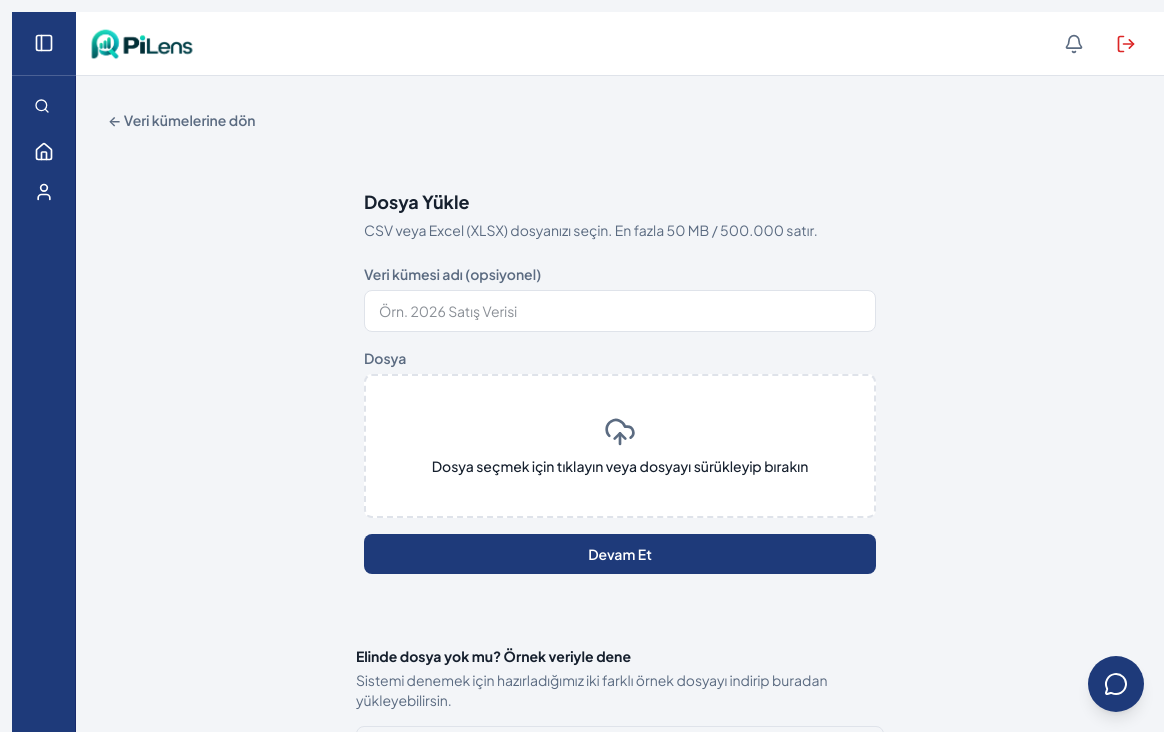
Test: DatasetUploadPage › dosya secilmeden gonderilirse hata gosterir
The width and height of the screenshot is (1164, 732).
Click the button "Devam Et": (620,554) [364,534,876,574]
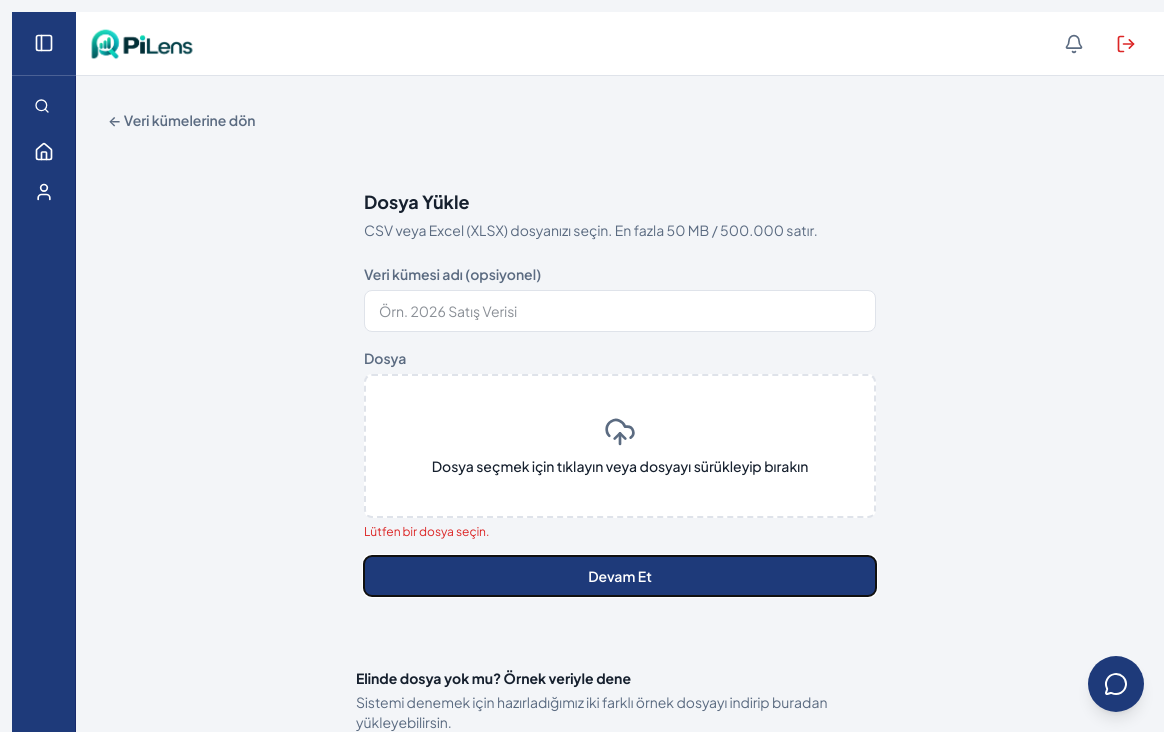
Now the text "Lütfen bir dosya seçin." is shown, box [364,524,489,539]
